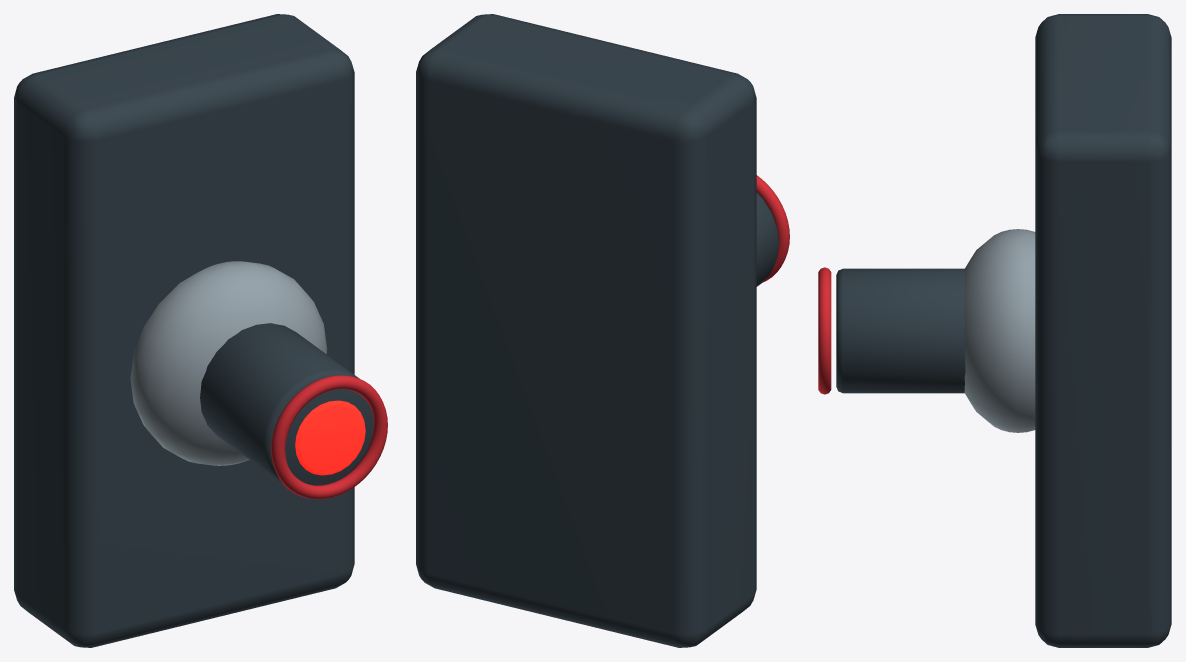
File: laser.glb
3 renders of one model, left to right at view 1: azimuth 30°, elevation 25°; view 2: azimuth 150°, elevation 25°; view 3: azimuth 270°, elevation 25°, orthographic. The views are drawn at different scales.
Visible parts, largest first — view 1: Detector wall mount, Detector swivel joint, Detector optical housing, Detector hazard rim, Detector red lens; view 2: Detector wall mount, Detector optical housing, Detector hazard rim; view 3: Detector wall mount, Detector optical housing, Detector swivel joint, Detector hazard rim.
Part boxes in pixels (bbox=[...]): Detector wall mount: bbox=[14, 14, 354, 647]; Detector swivel joint: bbox=[130, 261, 327, 465]; Detector optical housing: bbox=[200, 323, 373, 485]; Detector hazard rim: bbox=[271, 375, 387, 499]; Detector red lens: bbox=[295, 400, 365, 475]; Detector wall mount: bbox=[416, 14, 756, 647]; Detector optical housing: bbox=[756, 192, 779, 286]; Detector hazard rim: bbox=[756, 175, 789, 282]; Detector wall mount: bbox=[1035, 14, 1171, 647]; Detector optical housing: bbox=[836, 268, 965, 393]; Detector swivel joint: bbox=[964, 229, 1035, 432]; Detector hazard rim: bbox=[818, 267, 831, 394].
Size of the model in its own units: 0.28 by 0.5 by 0.3107.
